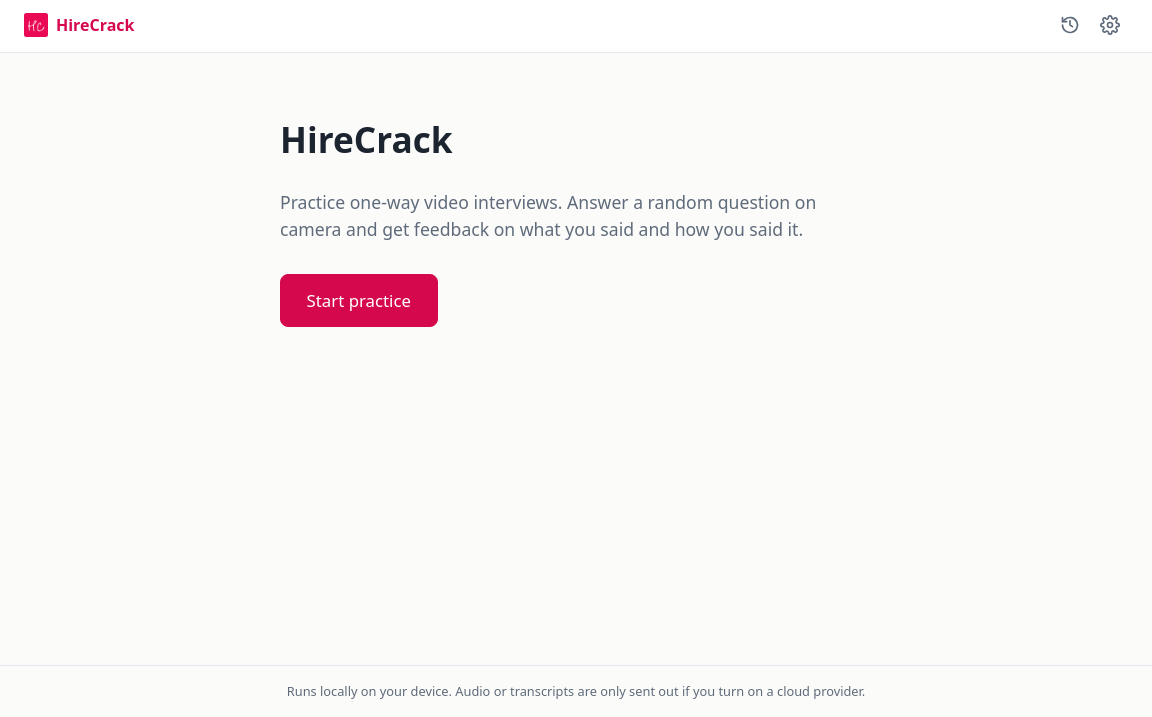
Test: Settings page › changes eye contact tracking, persists it on Save and returns Home
Click the button named "Settings".
click(1110, 25)  # box [1092, 7, 1128, 43]
(page scrolled)
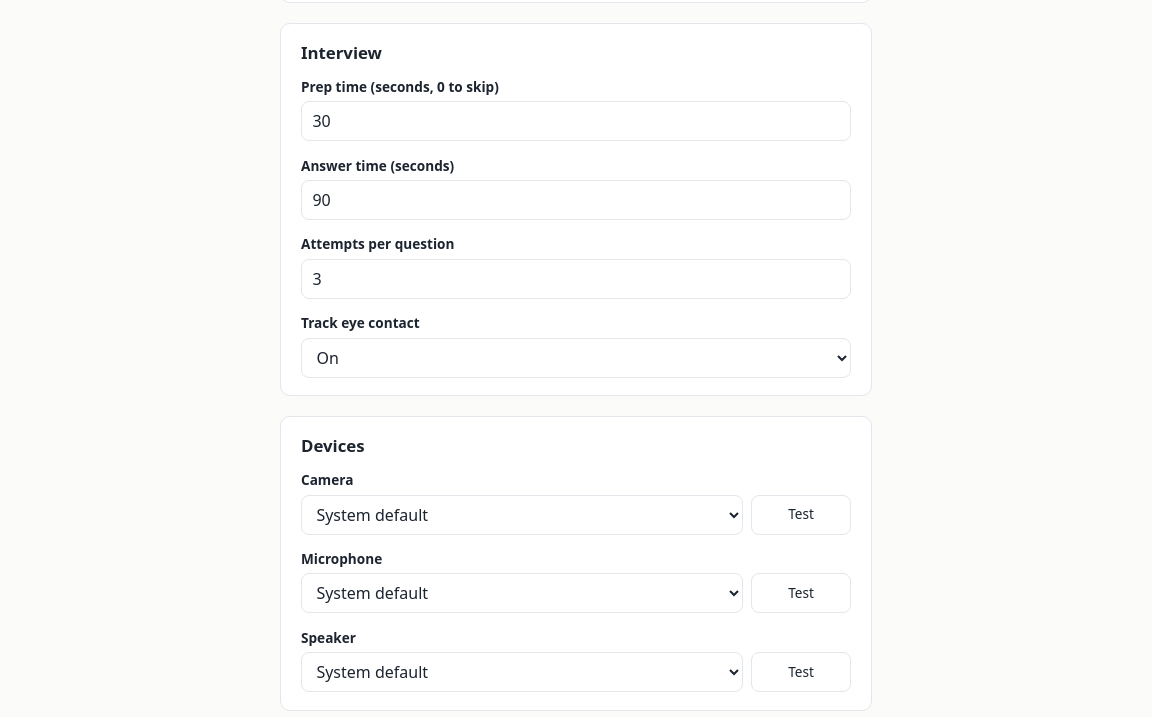
Check: the dropdown labelled "Track eye contact" shows "On"
Select "Off" in the dropdown labelled "Track eye contact" at (576, 358), box [301, 338, 851, 378]
(page scrolled)
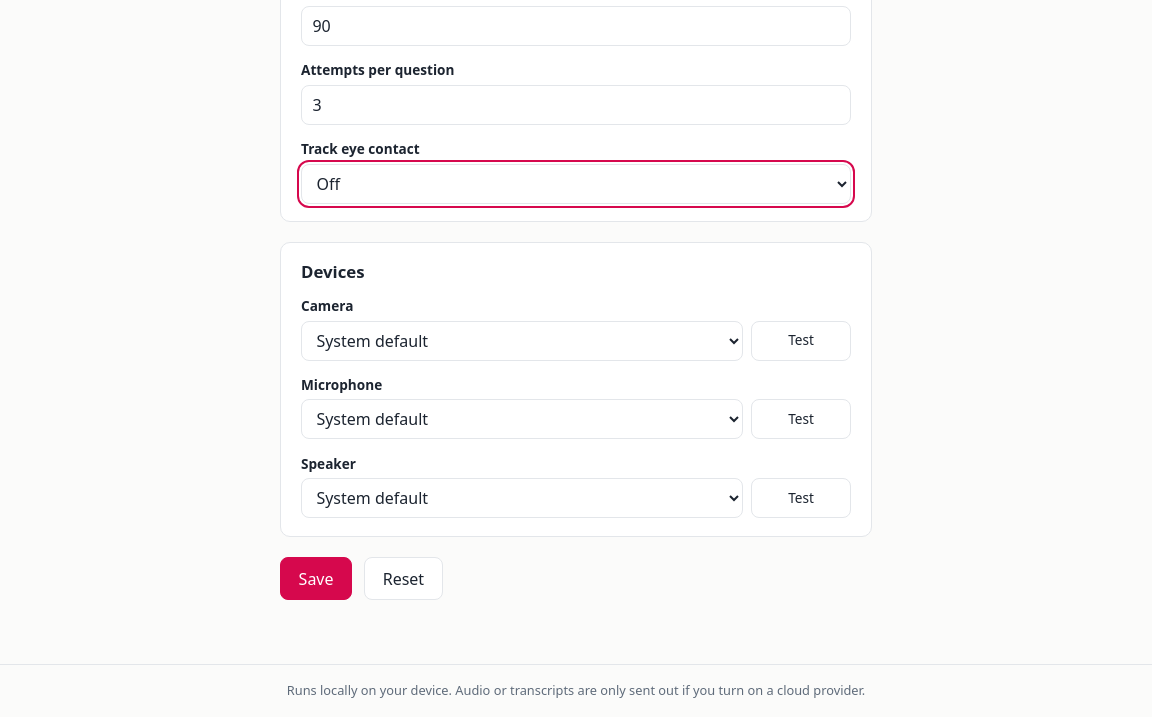
Click the button "Save".
click(316, 579)  # box [280, 557, 352, 600]
(page scrolled)
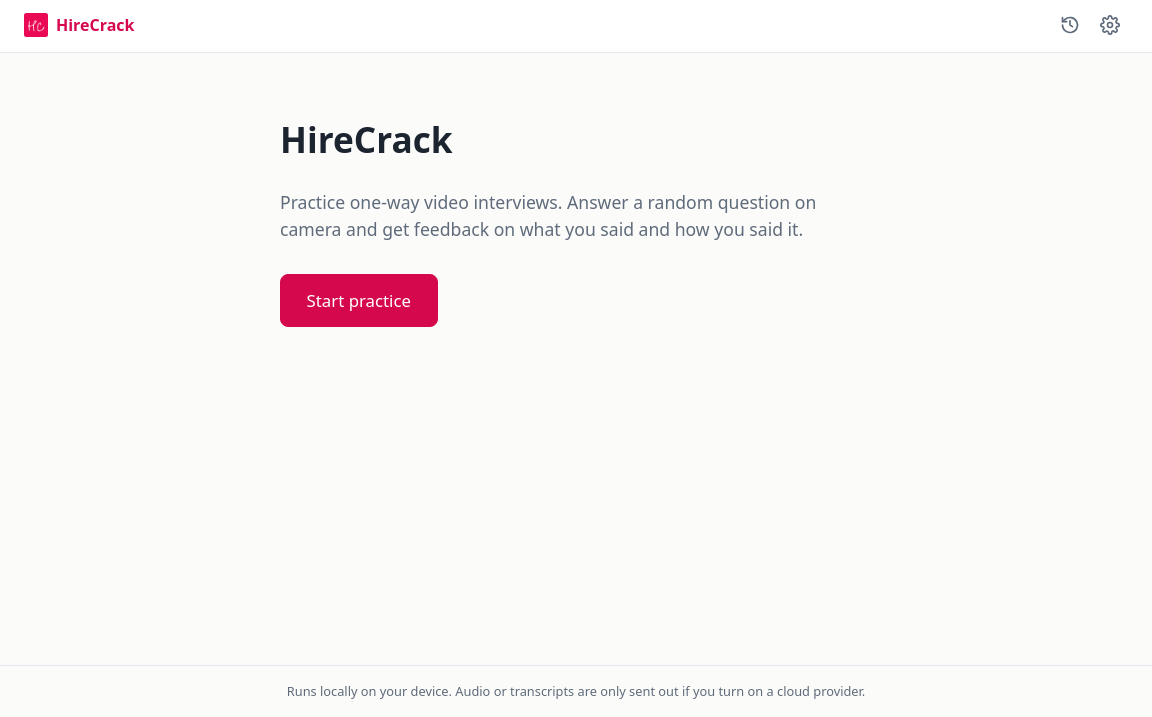
Check: the button "Start practice" is shown, box [280, 274, 438, 327]
